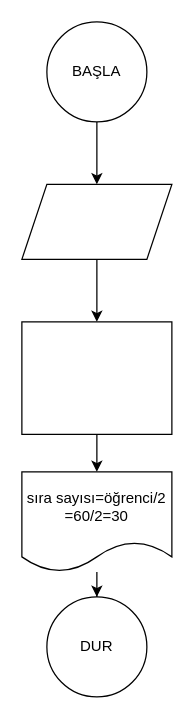
Some shapes in this 194 by 719 pixel diagram are drawn without their labels. Each missing label, with the centre of its shape:
"2*12=24 tek erkek 24=2/3 ise erkek =36 ise kız=24 toplam=60 ise" belongs at [96,377].
"kız*1/2=erkek*1/3, 2 erkek sıra sayısı=12," belongs at [96,221].
